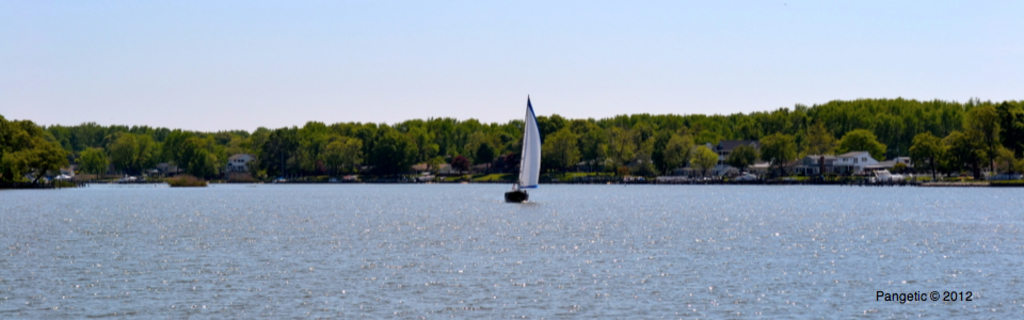Tree: (0, 95, 1024, 187)
